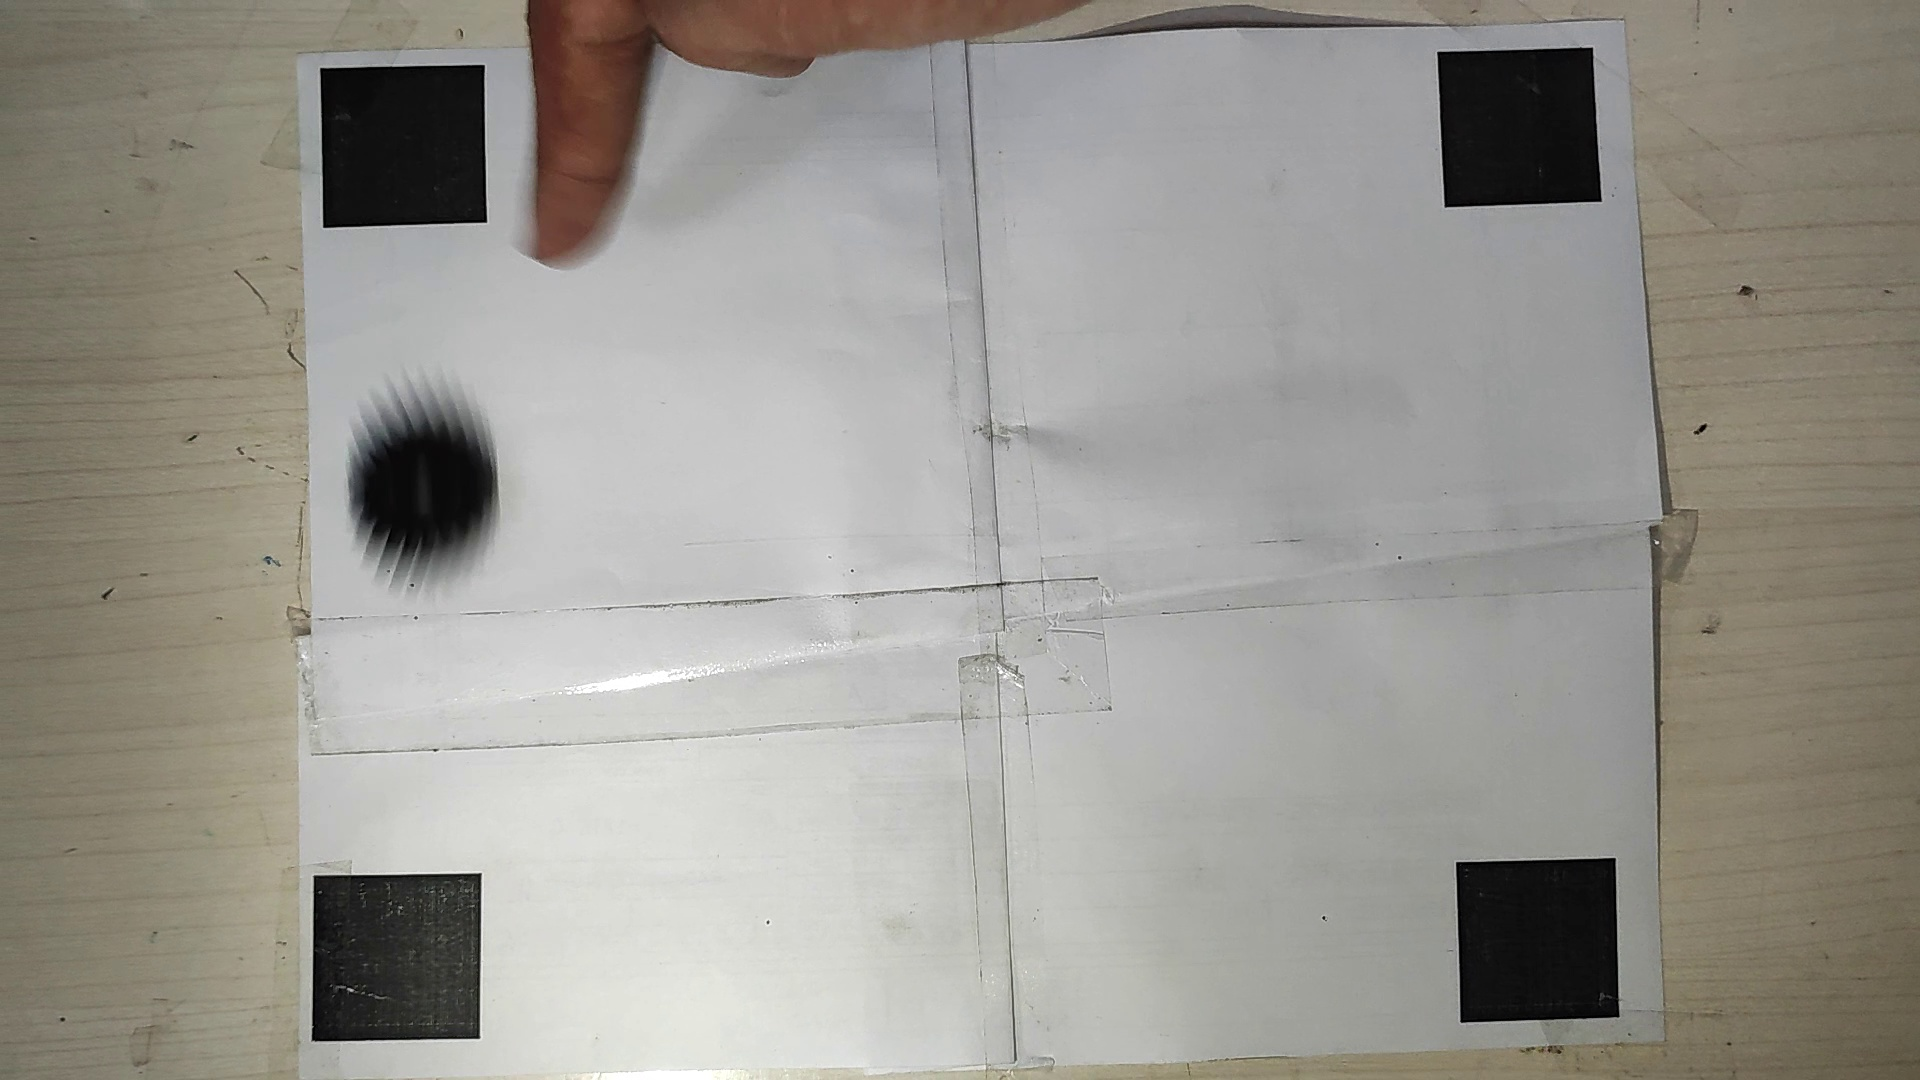Gear: (351, 413, 501, 556)
